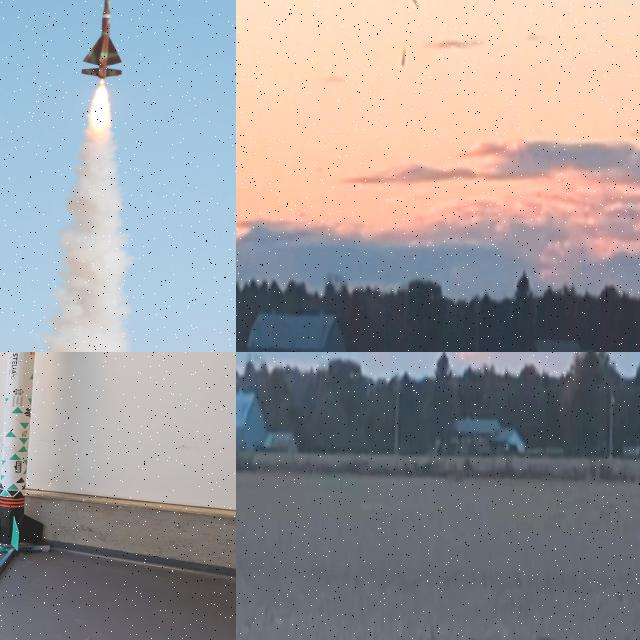Rocket: (79, 0, 123, 78), (401, 47, 406, 67)
